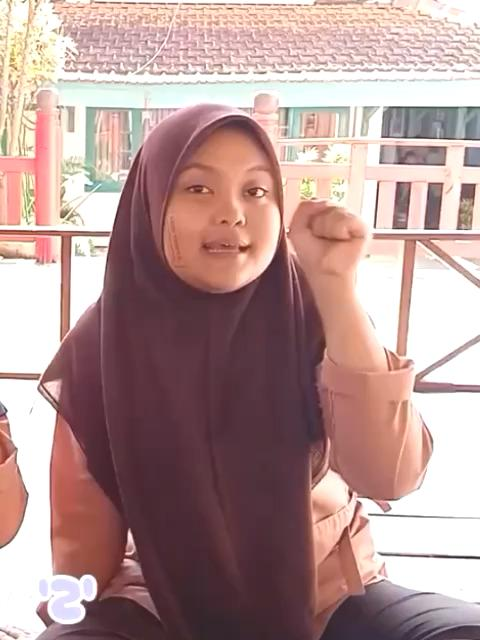S: (278, 193, 376, 281)
